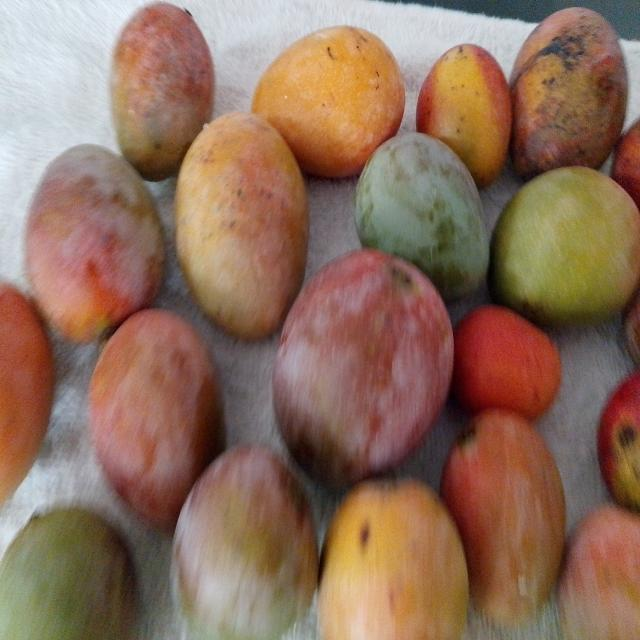mango: (272, 245, 454, 479), (85, 306, 226, 524), (175, 112, 309, 339), (172, 445, 318, 639), (441, 407, 567, 626), (25, 144, 164, 342), (318, 479, 468, 639), (490, 167, 639, 325), (252, 26, 405, 177), (355, 133, 489, 300), (510, 7, 627, 178), (111, 2, 214, 180), (0, 507, 136, 639), (416, 44, 512, 188), (456, 303, 564, 425)
